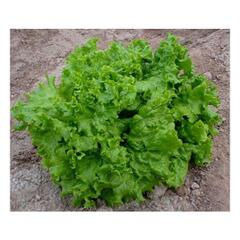Lettuce: (17, 34, 221, 212)
